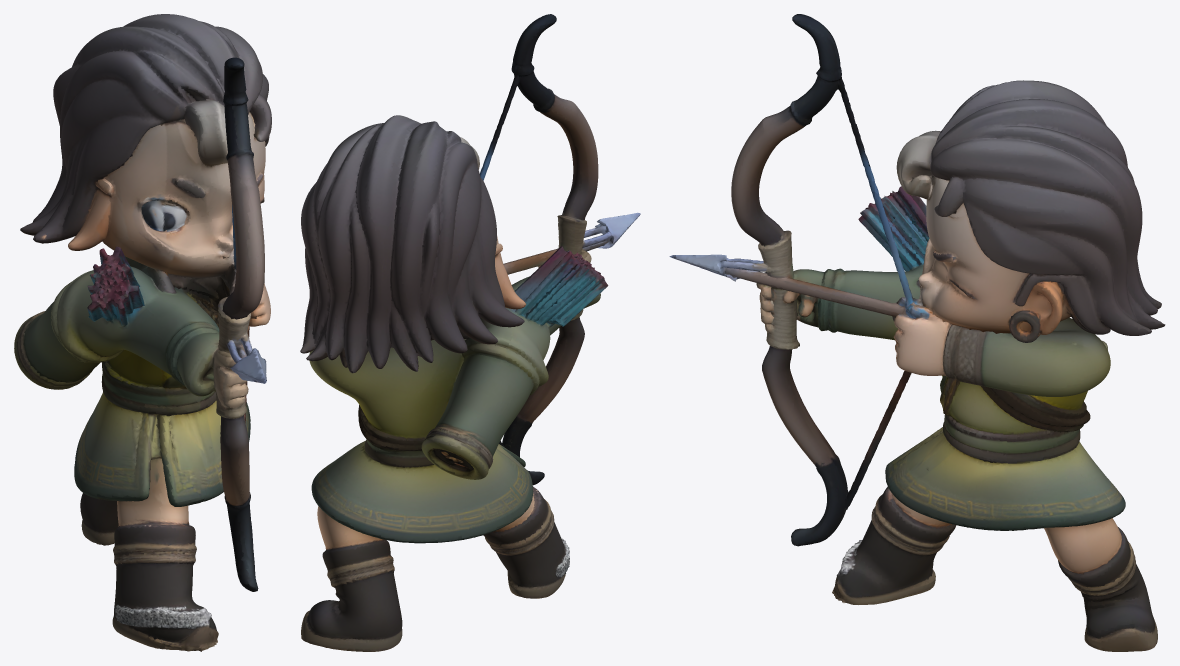
Rendered from harijilagen.glb.
3 views of the same model, side by side, from view 1: azimuth 30°, elevation 25°; view 2: azimuth 150°, elevation 25°; view 3: azimuth 270°, elevation 25° (orthographic). The views are drawn at different scales.
Bounding box in the file's own units: 1.17 × 2.7 × 2.07.
1 material, 1 textured.
